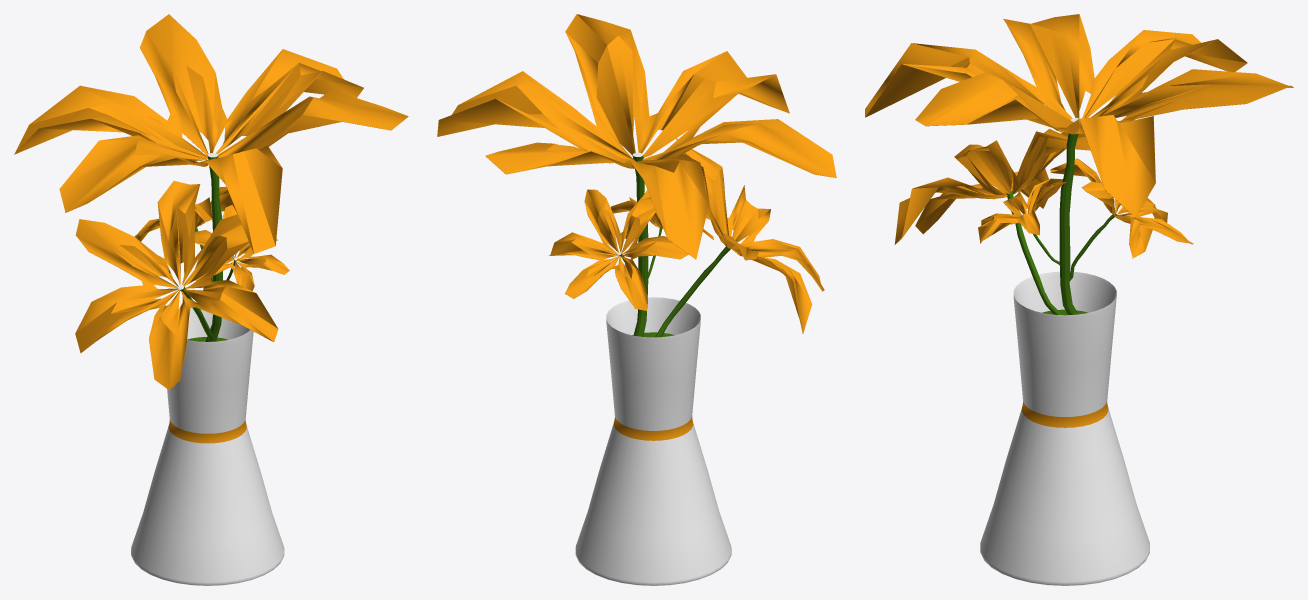
The model's file is Flowers.fbx.
3 renders of one model, left to right at view 1: azimuth 30°, elevation 25°; view 2: azimuth 150°, elevation 25°; view 3: azimuth 270°, elevation 25°, orthographic. The views are drawn at different scales.
Visible parts, largest first — view 1: Flowers; view 2: Flowers; view 3: Flowers.
Part boxes in pixels (x1,y1,x2,y2): Flowers: (14, 14, 408, 585); Flowers: (437, 14, 836, 585); Flowers: (865, 14, 1293, 585).
Size of the model in its own units: 33.22 by 43.28 by 32.54.
1 material, 1 textured.
